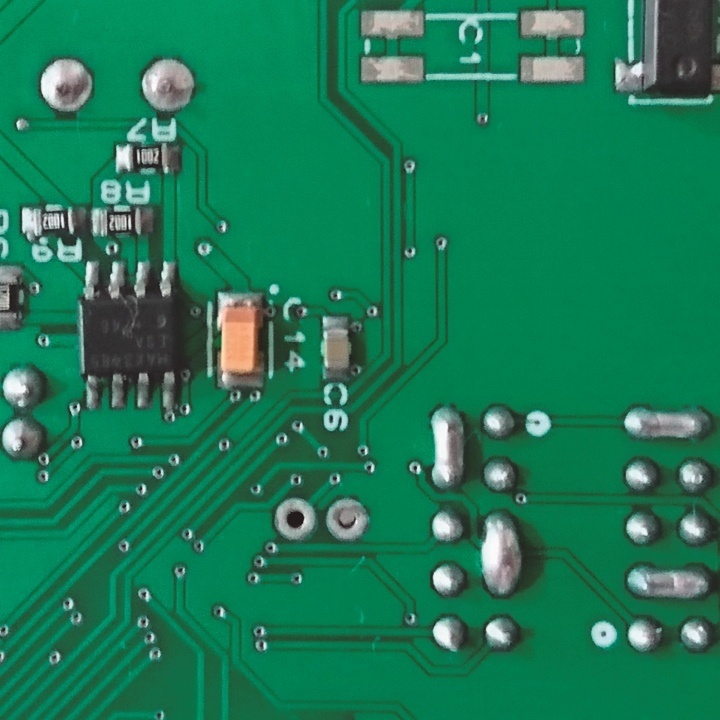F: (137, 56, 199, 117), (34, 55, 96, 112), (322, 493, 370, 544), (270, 496, 316, 542)
P: (477, 506, 528, 597), (620, 398, 712, 445), (626, 557, 716, 601), (426, 403, 470, 489)
